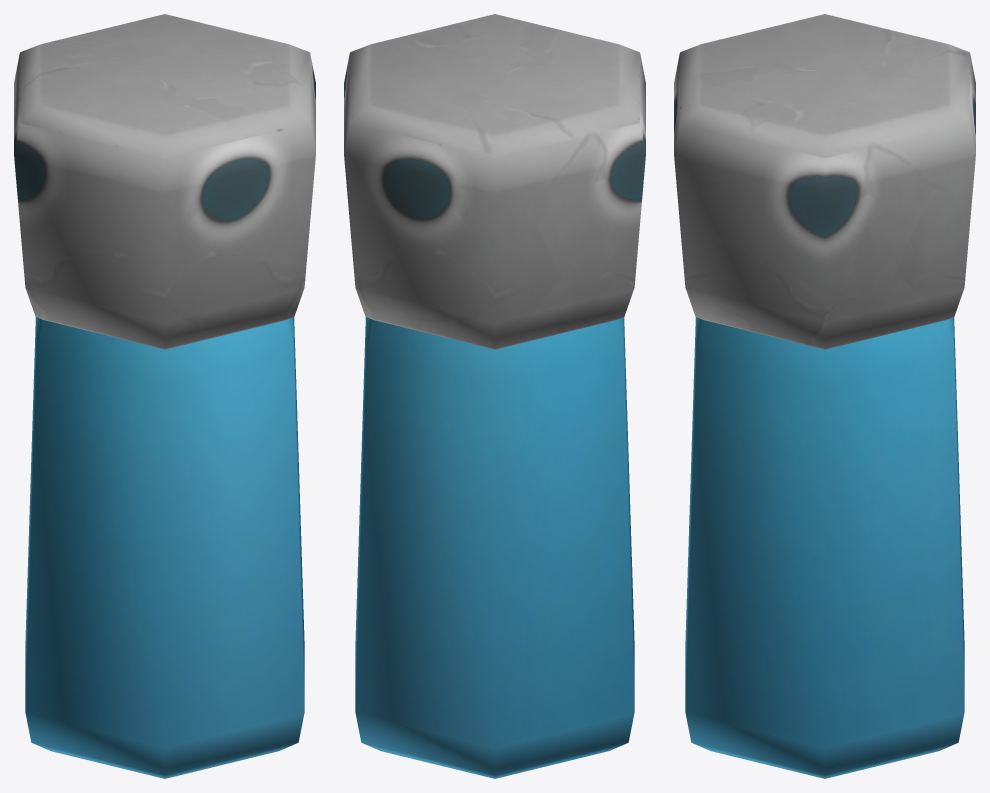
Rendered from Post_03.fbx.
The picture shows the model from 3 angles, left to right: view 1: azimuth 30°, elevation 25°; view 2: azimuth 150°, elevation 25°; view 3: azimuth 270°, elevation 25°; orthographic projection.
Visible parts, largest first — view 1: Post_03; view 2: Post_03; view 3: Post_03.
Part boxes in pixels (bbox=[...]): Post_03: bbox=[14, 14, 315, 778]; Post_03: bbox=[344, 14, 645, 778]; Post_03: bbox=[674, 14, 975, 778].
Size of the model in its own units: 0.7061 by 1.45 by 0.6115.
